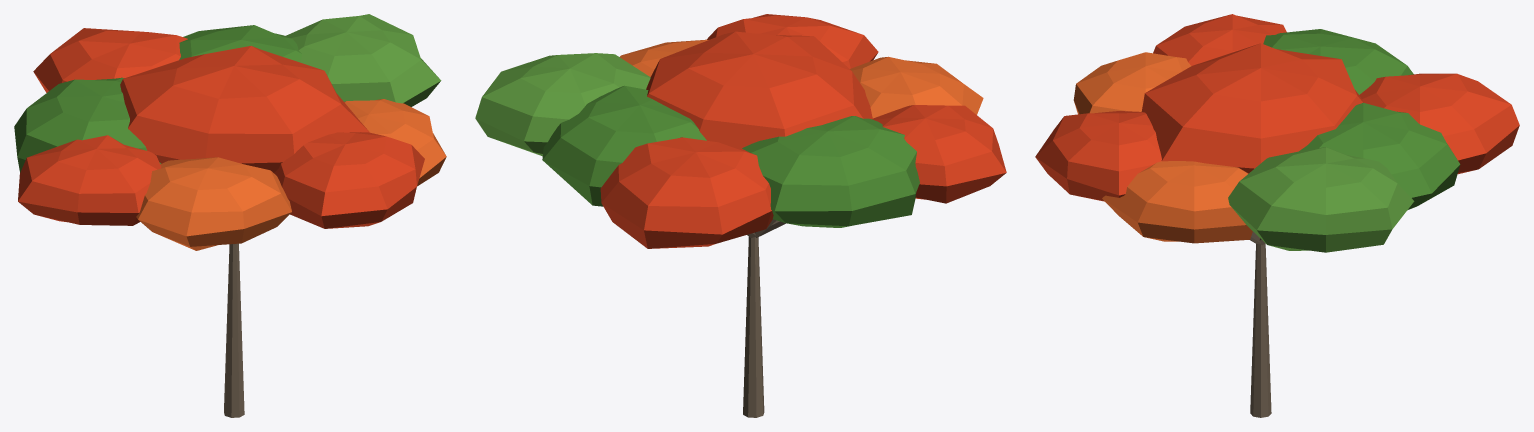
File: tree_flamboyant_small.glb
3 renders of one model, left to right at view 1: azimuth 30°, elevation 25°; view 2: azimuth 150°, elevation 25°; view 3: azimuth 270°, elevation 25°, orthographic. The views are drawn at different scales.
Visible parts, largest first — view 1: tree_flamboyant_small; view 2: tree_flamboyant_small; view 3: tree_flamboyant_small.
Part boxes in pixels (bbox=[...]): tree_flamboyant_small: bbox=[14, 14, 446, 417]; tree_flamboyant_small: bbox=[475, 14, 1006, 417]; tree_flamboyant_small: bbox=[1035, 14, 1519, 417].
Size of the model in its own units: 6.03 by 4.5 by 5.72.
